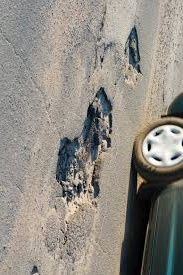pothole: (53, 82, 116, 211), (119, 21, 147, 82), (31, 264, 42, 273)
